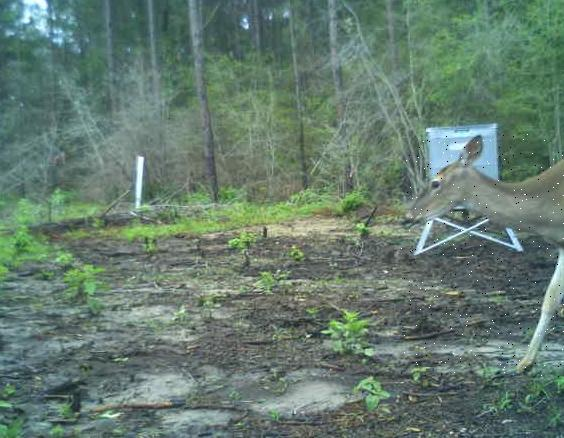Deer: (401, 131, 564, 378)
